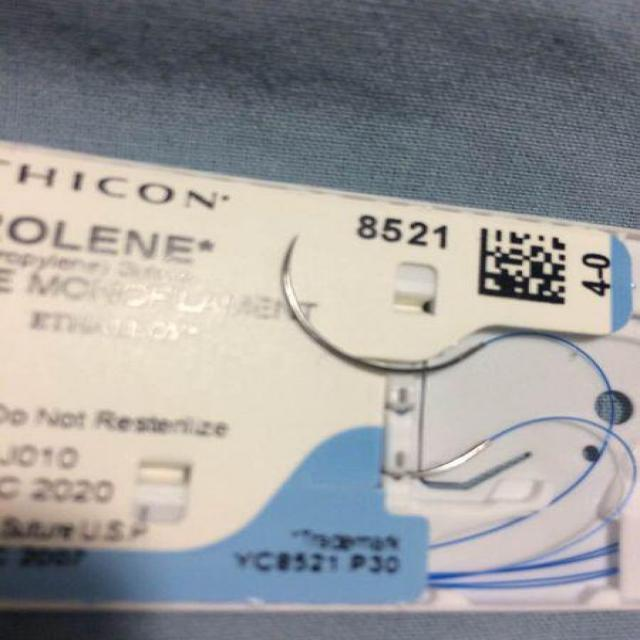Needle: (274, 228, 493, 378), (382, 433, 490, 482)
